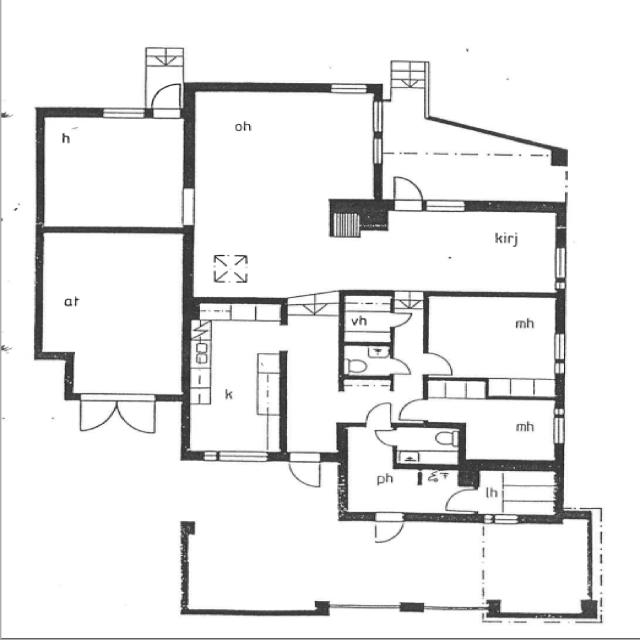door: (70, 390, 166, 439), (388, 173, 427, 213), (147, 80, 186, 119), (286, 452, 324, 490), (370, 512, 407, 546), (439, 486, 482, 515), (420, 348, 456, 377), (398, 395, 432, 423), (363, 399, 394, 428), (386, 356, 414, 378), (387, 308, 416, 329), (372, 427, 399, 447)
window: (367, 97, 388, 173), (324, 598, 408, 614), (202, 448, 272, 465), (176, 184, 200, 231), (549, 331, 571, 377), (415, 601, 490, 614), (96, 104, 150, 122), (322, 78, 376, 96), (422, 196, 472, 215), (551, 244, 570, 292), (550, 406, 568, 447), (482, 511, 524, 527), (530, 611, 566, 623)
zone: (186, 83, 375, 293), (39, 226, 189, 394), (329, 204, 560, 296), (40, 111, 189, 229), (186, 299, 283, 460), (425, 293, 564, 392), (421, 392, 561, 466), (476, 467, 557, 520), (391, 424, 462, 468), (340, 292, 394, 344), (338, 344, 395, 379)
